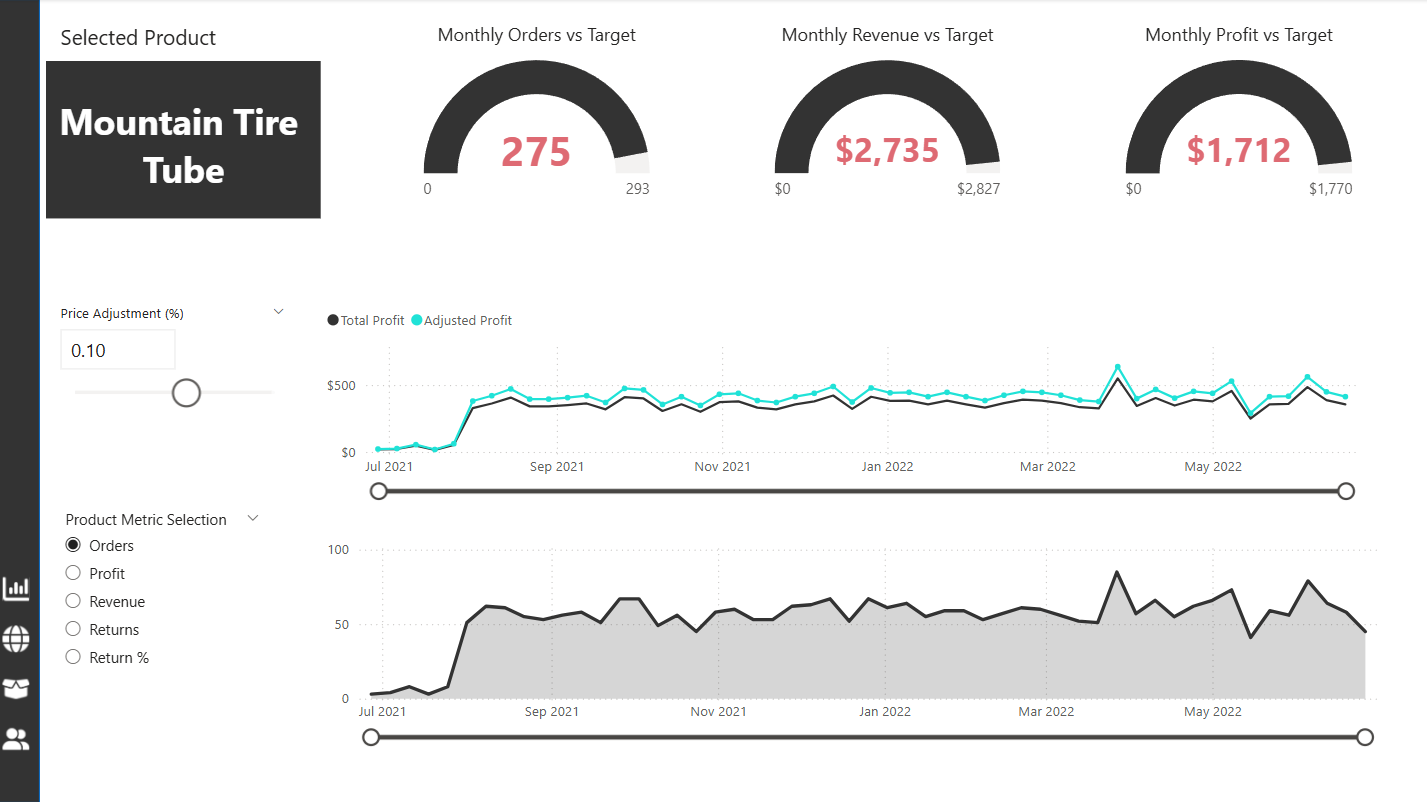

This screenshot's page, from the dashboard's own definition file:
{"tool":"powerbi","page":{"name":"Product Detail","canvas":[1280,720],"ordinal":2},"visuals":[{"type":"shape","box":[0,0,37.6,720],"z":0},{"type":"gauge","title":"Monthly Orders vs   Target","fields":{"MaxValue":["Measure Table.Order Target"],"Y":["Measure Table.Total Orders"]},"box":[376.1,20.6,212.5,175.6],"z":1000},{"type":"gauge","title":"Monthly Revenue vs   Target","fields":{"MaxValue":["Measure Table.Target Revenue"],"Y":["Measure Table.Total Revenue"]},"box":[690.6,20.6,212.2,175.5],"z":2000},{"type":"gauge","title":"Monthly Profit vs   Target","fields":{"MaxValue":["Measure Table.Profit Target"],"Y":["Measure Table.Total Profit"]},"box":[1004.8,20.6,213.1,175.5],"z":3000},{"type":"lineChart","title":"PROFIT TRENDING","fields":{"Category":["Calendar Lookup.Date Hierarchy.Start of Year","Calendar Lookup.Date Hierarchy.Start of Month","Calendar Lookup.Date Hierarchy.Start of  the Week","Calendar Lookup.Date Hierarchy.Date"],"Y":["Measure Table.Total Profit","Measure Table.Adjusted Profit"]},"box":[289.3,267.8,948.4,184.5],"z":4000},{"type":"areaChart","title":"RETURNS TRENDING","fields":{"Category":["Calendar Lookup.Date Hierarchy.Start of Year","Calendar Lookup.Date Hierarchy.Start of Month","Calendar Lookup.Date Hierarchy.Start of  the Week","Calendar Lookup.Date Hierarchy.Date"],"Y":["Measure Table.Total Orders"]},"box":[289.3,479.1,966.3,193.4],"z":5000},{"type":"card","fields":{"Values":["Min(Product Lookup.ProductName)"]},"box":[43,55.5,246.3,140.6],"z":6000},{"type":"textbox","box":[51,16.1,191.6,39.4],"z":7000},{"type":"actionButton","box":[0,512.2,37.6,32.2],"z":8000},{"type":"actionButton","box":[0,557,37.6,32.2],"z":9000},{"type":"actionButton","box":[0,601.8,37.6,32.2],"z":10000},{"type":"actionButton","box":[0,646.6,37.6,32.2],"z":11000},{"type":"slicer","fields":{"Values":["Price Adjustment (%).Price Adjustment (%)"]},"box":[43,267.8,225.7,135.2],"z":12000},{"type":"slicer","fields":{"Values":["Product Metric Selection.Product Metric Selection"]},"box":[47.5,452.2,198.8,155.8],"z":12001}]}

Visuals, with their boxes on the page's 1280x720 design canvas (x1, y1, x2, y2). These are canvas units, not pixel positions in the 1427x802 screenshot, which may show the page scaled, cropped or inside an application window:
shape: 0,0,38,720
"Monthly Orders vs   Target" gauge: 376,21,589,196
"Monthly Revenue vs   Target" gauge: 691,21,903,196
"Monthly Profit vs   Target" gauge: 1005,21,1218,196
"PROFIT TRENDING" lineChart: 289,268,1238,452
"RETURNS TRENDING" areaChart: 289,479,1256,672
card - Min(Product Lookup.ProductName): 43,56,289,196
textbox: 51,16,243,56
actionButton: 0,512,38,544
actionButton: 0,557,38,589
actionButton: 0,602,38,634
actionButton: 0,647,38,679
slicer - Price Adjustment (%).Price Adjustment (%): 43,268,269,403
slicer - Product Metric Selection.Product Metric Selection: 48,452,246,608
